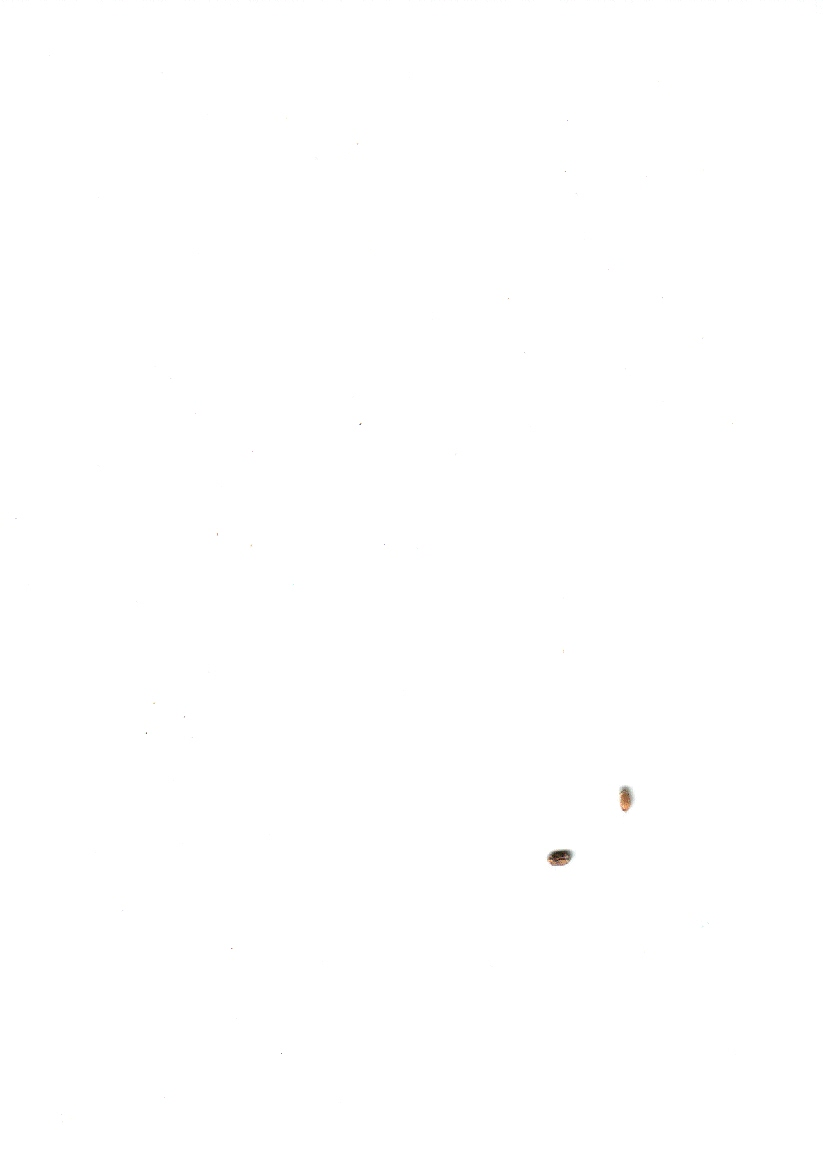grains: (533, 832, 585, 884), (598, 777, 653, 821)
